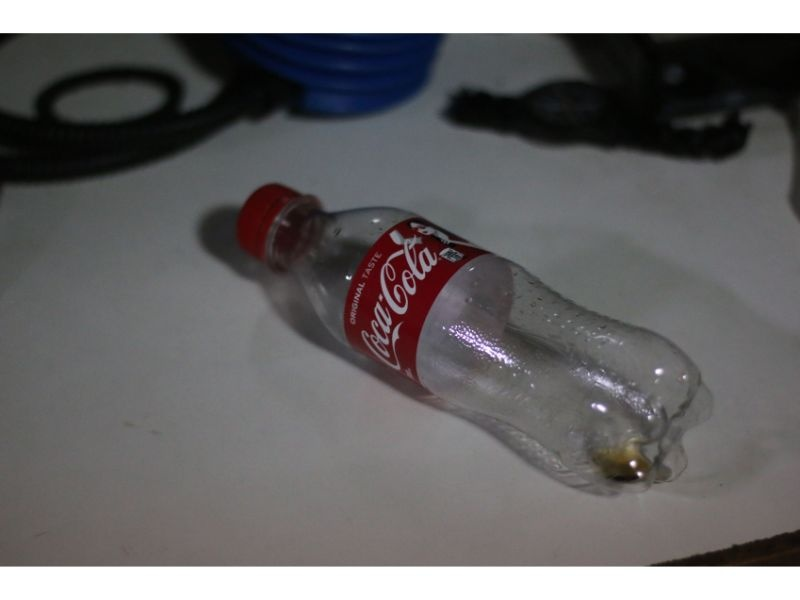PET #1: (231, 181, 705, 493)
